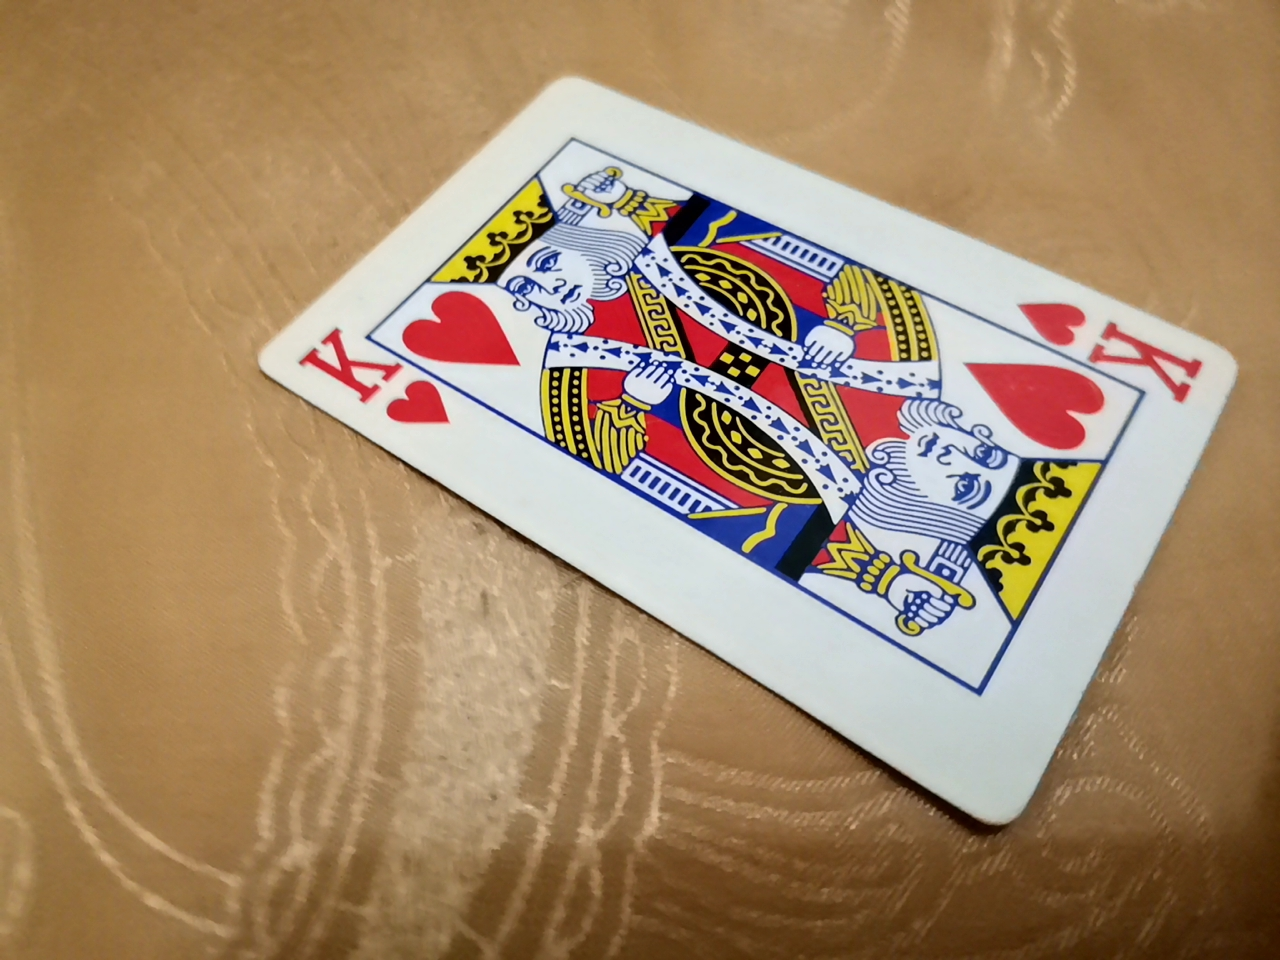hx k: (225, 99, 1219, 797)
